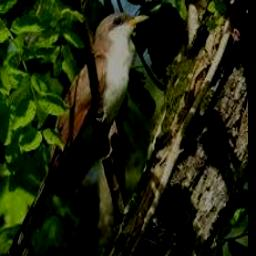Cuckoo: (11, 12, 150, 256)
